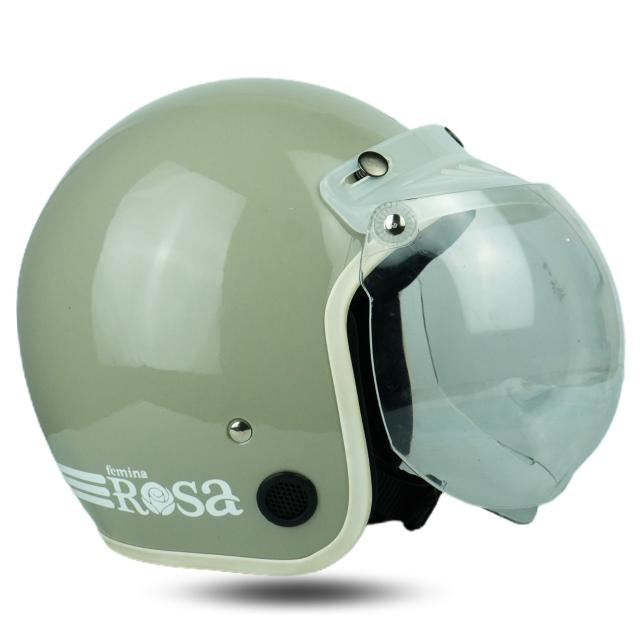Helm: (8, 77, 640, 636)
